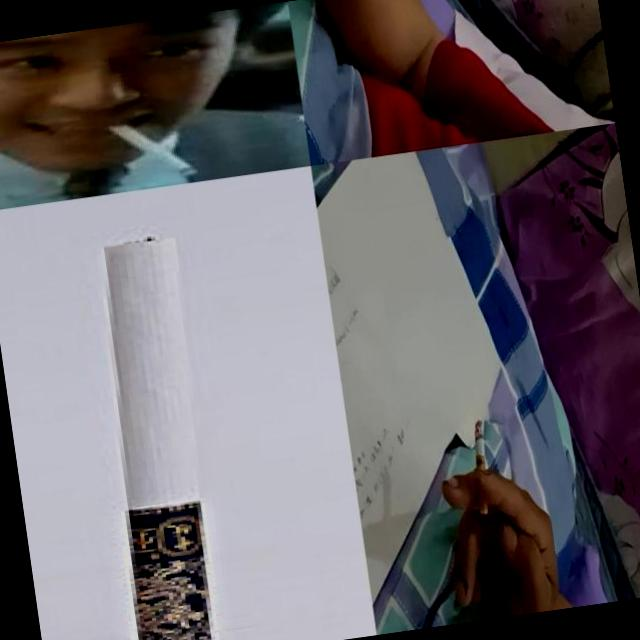smoke: (83, 231, 216, 640), (102, 109, 200, 187), (466, 418, 496, 518)
